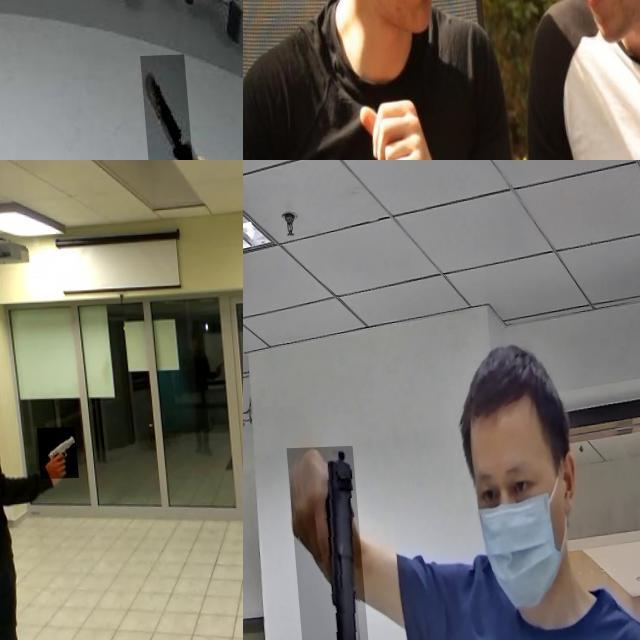-: (138, 58, 189, 160)
gun-knife-thesis - v11 Yolov5 augmented: (280, 448, 361, 640), (31, 428, 72, 481)
